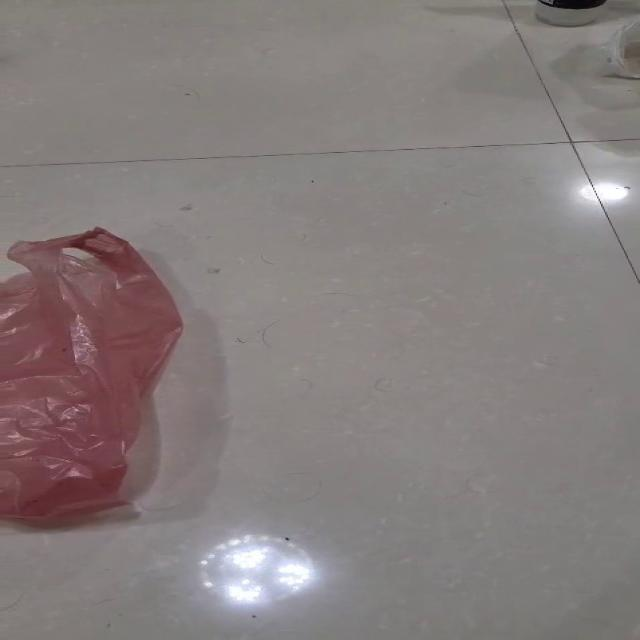plastic: (0, 225, 183, 519)
